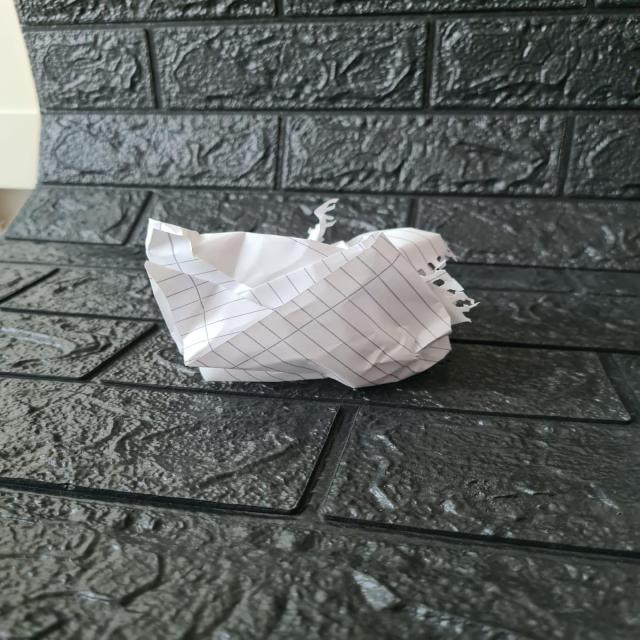cardboard paper: (144, 198, 474, 386)
